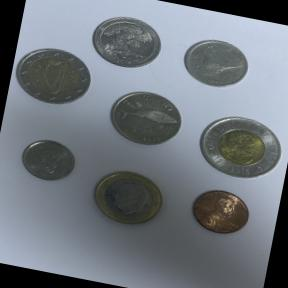1 Euro-B: (83, 160, 179, 238)
2 Euro-B: (8, 40, 97, 114)
Canada-10cent-B: (12, 130, 83, 190)
Canada-2Dollar-B: (184, 100, 288, 193)
Croatia-2Kune-B: (99, 78, 190, 158)
US-1cent-B: (180, 178, 258, 243)
US-25cent-B: (82, 7, 169, 76)
